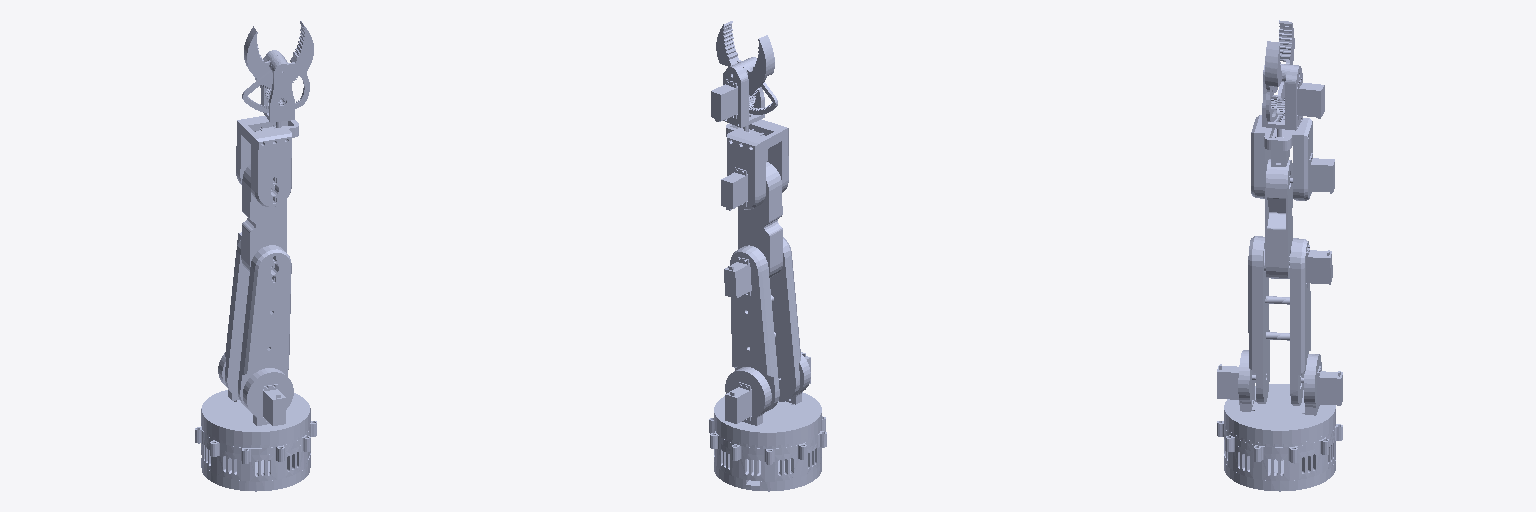
URDF robot description (rotatedauto):
<?xml version="1.0" encoding="utf-8"?>
<!-- This URDF was automatically created by SolidWorks to URDF Exporter! Originally created by Stephen Brawner (brawner@gmail.com) 
     Commit Version: 1.6.0-4-g7f85cfe  Build Version: 1.6.7995.38578
     For more information, please see http://wiki.ros.org/sw_urdf_exporter -->
<robot
  name="rotatedauto">
  <!-- World anchor + ground footprint; base_link is stood upright (arm -Y -> +Z) and lifted onto the floor. -->
  <link
    name="world" />
  <link
    name="base_footprint" />
  <joint
    name="world_to_footprint"
    type="fixed">
    <origin
      xyz="0 0 0"
      rpy="0 0 0" />
    <parent
      link="world" />
    <child
      link="base_footprint" />
  </joint>
  <joint
    name="base_footprint_to_base"
    type="fixed">
    <origin
      xyz="0 0 0.09"
      rpy="-1.5708 0 0" />
    <parent
      link="base_footprint" />
    <child
      link="base_link" />
  </joint>
  <link
    name="base_link">
    <inertial>
      <origin
        xyz="3.45163930153973E-05 -0.000785015033666168 -0.0571090387432575"
        rpy="0 0 0" />
      <mass
        value="0.612624196035198" />
      <inertia
        ixx="0.00104057382181815"
        ixy="-1.47166594398916E-06"
        ixz="-1.80561556343222E-07"
        iyy="0.00106913963546052"
        iyz="6.39936526460991E-07"
        izz="0.0020494663114152" />
    </inertial>
    <visual>
      <origin
        xyz="0 0 0"
        rpy="0 0 0" />
      <geometry>
        <mesh
          filename="package://rotatedauto/meshes/base_link.STL" />
      </geometry>
      <material
        name="">
        <color
          rgba="0.792156862745098 0.819607843137255 0.933333333333333 1" />
      </material>
    </visual>
    <collision>
      <origin
        xyz="0 0 0"
        rpy="0 0 0" />
      <geometry>
        <mesh
          filename="package://rotatedauto/meshes/base_link.STL" />
      </geometry>
    </collision>
  </link>
  <link
    name="l1">
    <inertial>
      <origin
        xyz="0.00799384464764848 -9.41073481146524E-05 5.05844262983888E-06"
        rpy="0 0 0" />
      <mass
        value="0.412047798150532" />
      <inertia
        ixx="0.000928404022931925"
        ixy="-1.91649283868352E-07"
        ixz="1.03015013255724E-08"
        iyy="0.000518397240681584"
        iyz="1.70013016470992E-06"
        izz="0.000549935104581139" />
    </inertial>
    <visual>
      <origin
        xyz="0 0 0"
        rpy="0 0 0" />
      <geometry>
        <mesh
          filename="package://rotatedauto/meshes/l1.STL" />
      </geometry>
      <material
        name="">
        <color
          rgba="0.792156862745098 0.819607843137255 0.933333333333333 1" />
      </material>
    </visual>
    <collision>
      <origin
        xyz="0 0 0"
        rpy="0 0 0" />
      <geometry>
        <mesh
          filename="package://rotatedauto/meshes/l1.STL" />
      </geometry>
    </collision>
  </link>
  <joint
    name="j1"
    type="continuous">
    <origin
      xyz="0 0 0"
      rpy="3.0629 0 -1.5708" />
    <parent
      link="base_link" />
    <child
      link="l1" />
    <axis
      xyz="1 0 0" />
    <limit
      lower="-3.14159"
      upper="3.14159"
      effort="100"
      velocity="3.0" />
  </joint>
  <link
    name="l2">
    <inertial>
      <origin
        xyz="-0.0977775255050925 -0.00646119707077256 0.00270158011766901"
        rpy="0 0 0" />
      <mass
        value="0.496010213924852" />
      <inertia
        ixx="0.000178689315928175"
        ixy="-0.000101836384895985"
        ixz="-1.64227883684855E-06"
        iyy="0.00171305355616528"
        iyz="-1.0852199984749E-07"
        izz="0.00185159928895766" />
    </inertial>
    <visual>
      <origin
        xyz="0 0 0"
        rpy="0 0 0" />
      <geometry>
        <mesh
          filename="package://rotatedauto/meshes/l2.STL" />
      </geometry>
      <material
        name="">
        <color
          rgba="0.792156862745098 0.819607843137255 0.933333333333333 1" />
      </material>
    </visual>
    <collision>
      <origin
        xyz="0 0 0"
        rpy="0 0 0" />
      <geometry>
        <mesh
          filename="package://rotatedauto/meshes/l2.STL" />
      </geometry>
    </collision>
  </link>
  <joint
    name="j2"
    type="continuous">
    <origin
      xyz="0.04205 0 0"
      rpy="-3.0879 -6.2052E-05 -3.1404" />
    <parent
      link="l1" />
    <child
      link="l2" />
    <axis
      xyz="0 0 1" />
    <limit
      lower="-3.14159"
      upper="3.14159"
      effort="100"
      velocity="3.0" />
  </joint>
  <link
    name="l3">
    <inertial>
      <origin
        xyz="-0.00208321551742808 -0.0554794178115117 0.000238443804988416"
        rpy="0 0 0" />
      <mass
        value="0.243053670555902" />
      <inertia
        ixx="0.000533828526222675"
        ixy="-1.65337914352172E-05"
        ixz="-1.80265656509772E-08"
        iyy="7.26410262028623E-05"
        iyz="2.54785358090794E-08"
        izz="0.000572156672793709" />
    </inertial>
    <visual>
      <origin
        xyz="0 0 0"
        rpy="0 0 0" />
      <geometry>
        <mesh
          filename="package://rotatedauto/meshes/l3.STL" />
      </geometry>
      <material
        name="">
        <color
          rgba="0.792156862745098 0.819607843137255 0.933333333333333 1" />
      </material>
    </visual>
    <collision>
      <origin
        xyz="0 0 0"
        rpy="0 0 0" />
      <geometry>
        <mesh
          filename="package://rotatedauto/meshes/l3.STL" />
      </geometry>
    </collision>
  </link>
  <joint
    name="j3"
    type="continuous">
    <origin
      xyz="-0.183649470740158 -0.0121356663129733 0"
      rpy="0 0 -1.52898088222841" />
    <parent
      link="l2" />
    <child
      link="l3" />
    <axis
      xyz="0 0 1" />
    <limit
      lower="-3.14159"
      upper="3.14159"
      effort="100"
      velocity="3.0" />
  </joint>
  <link
    name="l4">
    <inertial>
      <origin
        xyz="-0.000394374351686404 0.00144455097160109 -0.0337686814103804"
        rpy="0 0 0" />
      <mass
        value="0.381416921085215" />
      <inertia
        ixx="0.000349560240552801"
        ixy="1.6940658945086E-20"
        ixz="1.0410624174425E-06"
        iyy="0.000273848932102221"
        iyz="3.76678743344276E-08"
        izz="0.000112118352597873" />
    </inertial>
    <visual>
      <origin
        xyz="0 0 0"
        rpy="0 0 0" />
      <geometry>
        <mesh
          filename="package://rotatedauto/meshes/l4.STL" />
      </geometry>
      <material
        name="">
        <color
          rgba="0.792156862745098 0.819607843137255 0.933333333333333 1" />
      </material>
    </visual>
    <collision>
      <origin
        xyz="0 0 0"
        rpy="0 0 0" />
      <geometry>
        <mesh
          filename="package://rotatedauto/meshes/l4.STL" />
      </geometry>
    </collision>
  </link>
  <joint
    name="j4"
    type="continuous">
    <origin
      xyz="-0.00297223967681405 -0.117462401607083 0"
      rpy="0.181773398369719 -1.57079631189374 -1.78487790419712" />
    <parent
      link="l3" />
    <child
      link="l4" />
    <axis
      xyz="1 0 0" />
    <limit
      lower="-3.14159"
      upper="3.14159"
      effort="100"
      velocity="3.0" />
  </joint>
  <link
    name="l5">
    <inertial>
      <origin
        xyz="1.76943876217805E-11 -0.0153083577816068 -0.059281114368264"
        rpy="0 0 0" />
      <mass
        value="0.0979788719174206" />
      <inertia
        ixx="4.55048725493735E-05"
        ixy="-6.44882689864726E-15"
        ixz="-6.68284086685763E-13"
        iyy="4.61267068197987E-05"
        iyz="1.92815060113569E-06"
        izz="1.35440423695337E-05" />
    </inertial>
    <visual>
      <origin
        xyz="0 0 0"
        rpy="0 0 0" />
      <geometry>
        <mesh
          filename="package://rotatedauto/meshes/l5.STL" />
      </geometry>
      <material
        name="">
        <color
          rgba="0.792156862745098 0.819607843137255 0.933333333333333 1" />
      </material>
    </visual>
    <collision>
      <origin
        xyz="0 0 0"
        rpy="0 0 0" />
      <geometry>
        <mesh
          filename="package://rotatedauto/meshes/l5.STL" />
      </geometry>
    </collision>
  </link>
  <joint
    name="j5"
    type="continuous">
    <origin
      xyz="0.00431003521761511 0.0206851212743065 -0.07445"
      rpy="0 0 1.68158513269406" />
    <parent
      link="l4" />
    <child
      link="l5" />
    <axis
      xyz="0 0 1" />
    <limit
      lower="-3.14159"
      upper="3.14159"
      effort="100"
      velocity="3.0" />
  </joint>
  <link
    name="l6r">
    <inertial>
      <origin
        xyz="-0.0181710942909363 -0.00272181116049123 -0.0104996856618303"
        rpy="0 0 0" />
      <mass
        value="0.0295401711799883" />
      <inertia
        ixx="3.75664389596774E-05"
        ixy="3.4127205865121E-07"
        ixz="-3.78504365614721E-06"
        iyy="4.51402552859558E-05"
        iyz="2.69982668135981E-06"
        izz="9.04604180358892E-06" />
    </inertial>
    <visual>
      <origin
        xyz="0 0 0"
        rpy="0 0 0" />
      <geometry>
        <mesh
          filename="package://rotatedauto/meshes/l6r.STL" />
      </geometry>
      <material
        name="">
        <color
          rgba="0.792156862745098 0.819607843137255 0.933333333333333 1" />
      </material>
    </visual>
    <collision>
      <origin
        xyz="0 0 0"
        rpy="0 0 0" />
      <geometry>
        <mesh
          filename="package://rotatedauto/meshes/l6r.STL" />
      </geometry>
    </collision>
  </link>
  <joint
    name="j6r"
    type="continuous">
    <origin
      xyz="0 0 -0.094339964782384"
      rpy="0 0.495427955427081 -3.14159265358979" />
    <parent
      link="l5" />
    <child
      link="l6r" />
    <axis
      xyz="0 1 0" />
    <!-- follower: mirrors the driver j6l at the 1.13:2.36 reverse gear ratio -->
    <mimic
      joint="j6l"
      multiplier="-2.0885"
      offset="0" />
  </joint>
  <link
    name="l6l">
    <inertial>
      <origin
        xyz="0.0260082538049205 0.00252851999352315 -0.0074747378916018"
        rpy="0 0 0" />
      <mass
        value="0.0235862116962031" />
      <inertia
        ixx="1.20446137578521E-05"
        ixy="1.1525330011469E-06"
        ixz="7.71045930271547E-06"
        iyy="2.057888386215E-05"
        iyz="-1.3006840509167E-06"
        izz="9.73475111379412E-06" />
    </inertial>
    <visual>
      <origin
        xyz="0 0 0"
        rpy="0 0 0" />
      <geometry>
        <mesh
          filename="package://rotatedauto/meshes/l6l.STL" />
      </geometry>
      <material
        name="">
        <color
          rgba="0.792156862745098 0.819607843137255 0.933333333333333 1" />
      </material>
    </visual>
    <collision>
      <origin
        xyz="0 0 0"
        rpy="0 0 0" />
      <geometry>
        <mesh
          filename="package://rotatedauto/meshes/l6l.STL" />
      </geometry>
    </collision>
  </link>
  <joint
    name="j6l"
    type="continuous">
    <origin
      xyz="0 0 -0.094339964782384"
      rpy="0 0.0671805777502923 -3.14159265358979" />
    <parent
      link="l5" />
    <child
      link="l6l" />
    <axis
      xyz="0 1 0" />
    <limit
      lower="-3.14159"
      upper="3.14159"
      effort="100"
      velocity="3.0" />
  </joint>
</robot>

--- What the picture shows (computed from the rendered views, not written in the file) ---
Views: 3 orthographic renders of the robot side by side, from view 1: azimuth 30°, elevation 25°; view 2: azimuth 150°, elevation 25°; view 3: azimuth 270°, elevation 25°.
Model rotatedauto with 10 links and 9 joints (7 continuous, 2 fixed), rooted at world, posed all joints at 0.
Links seen in each view (by area): view 1: l2, l1, base_link, l4, l3, l5, l6r, l6l; view 2: l2, l1, base_link, l4, l3, l5, l6r, l6l; view 3: l1, l2, base_link, l4, l3, l5, l6r, l6l.
Boxes of the visible links, box(x1,y1,x2,y2) form: l2: box(225, 232, 291, 407); l1: box(201, 353, 310, 461); base_link: box(195, 421, 316, 491); l4: box(236, 116, 298, 206); l3: box(241, 164, 286, 272); l5: box(260, 50, 294, 127); l6r: box(242, 21, 313, 112); l6l: box(244, 26, 297, 88); l2: box(724, 237, 800, 411); l1: box(714, 352, 821, 447); base_link: box(709, 416, 826, 491); l4: box(721, 119, 788, 210); l3: box(738, 162, 782, 277); l5: box(711, 57, 764, 131); l6r: box(716, 21, 777, 114); l6l: box(739, 35, 774, 96); l1: box(1217, 350, 1342, 460); l2: box(1248, 236, 1332, 405); base_link: box(1217, 421, 1342, 491); l4: box(1251, 115, 1334, 200); l3: box(1264, 159, 1292, 278); l5: box(1262, 64, 1324, 136); l6r: box(1265, 41, 1282, 121); l6l: box(1277, 20, 1294, 100).
Bounding box of the posed robot: 0.1674 × 0.1698 × 0.6628 m (x, y, z).
Meshes: 8 distinct files referenced, 8 mesh visuals loaded (8 binary STL).
